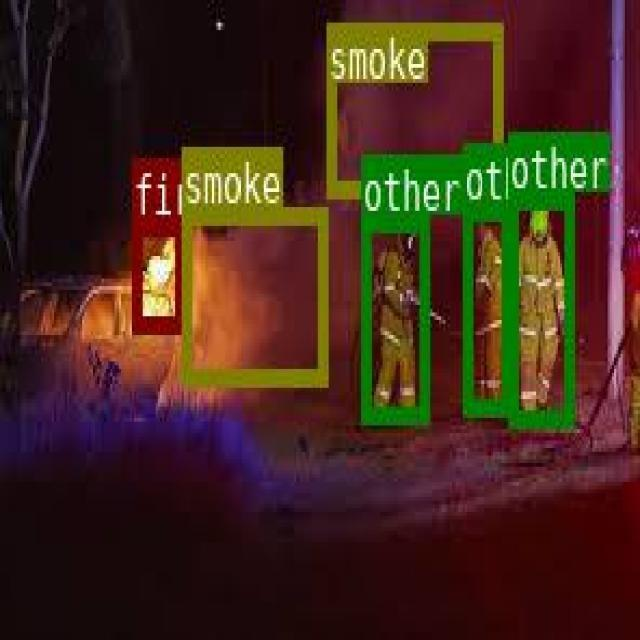fire: (131, 218, 183, 330)
smoke: (326, 21, 502, 194), (181, 205, 327, 382)
